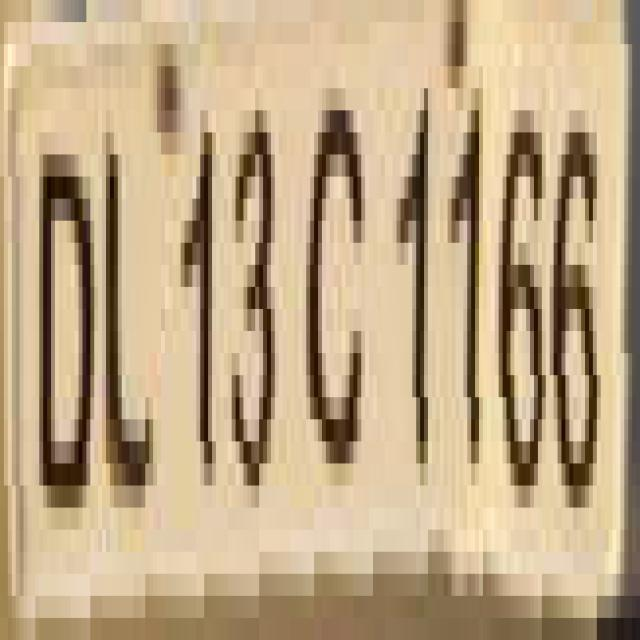license_plate: (19, 0, 640, 618)
